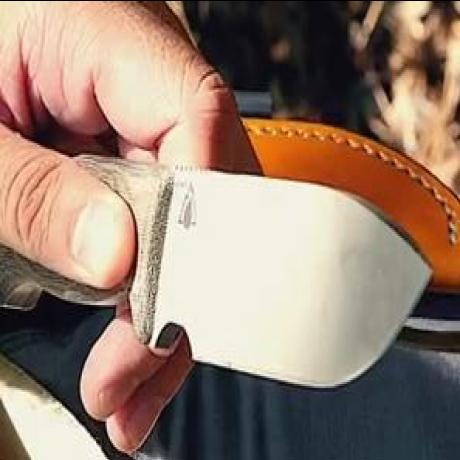weapon: (11, 153, 435, 371)
